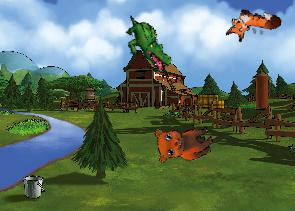bear: (149, 112, 217, 170)
crocodile: (113, 13, 182, 75)
fox: (224, 4, 282, 49)
